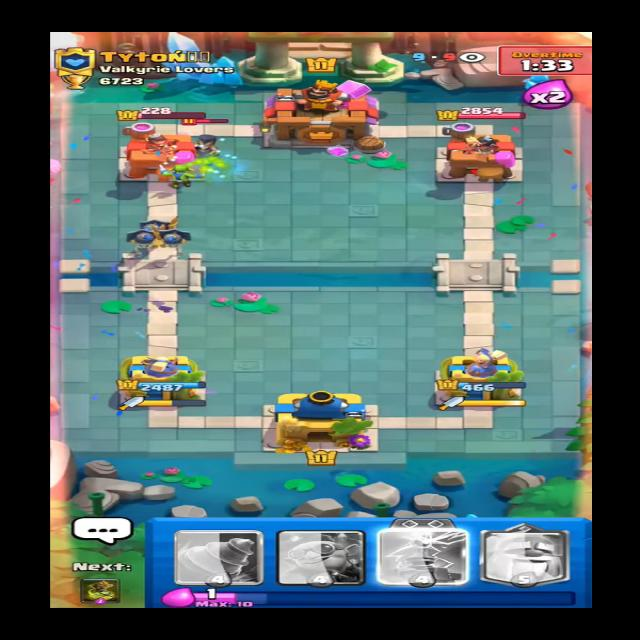Nightwitch: (179, 118, 236, 164)
